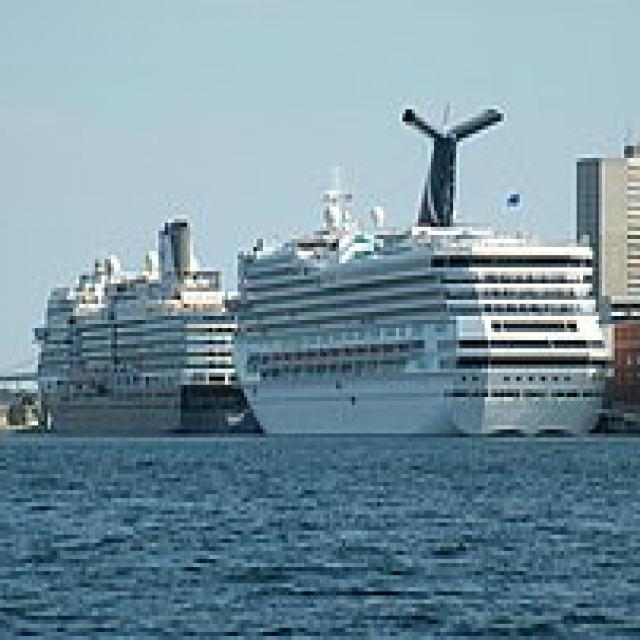Cruise: (225, 98, 618, 434), (35, 211, 263, 434)
